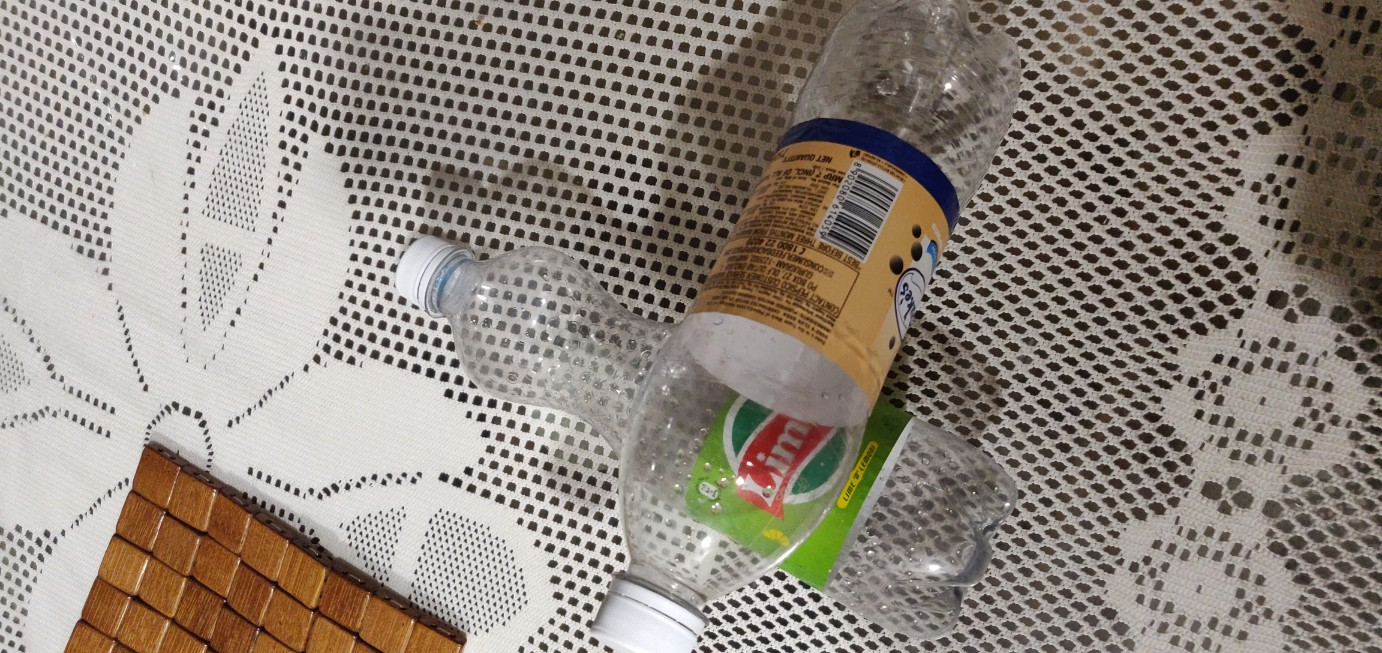Electronics: (556, 2, 1073, 653), (376, 209, 1043, 653)
